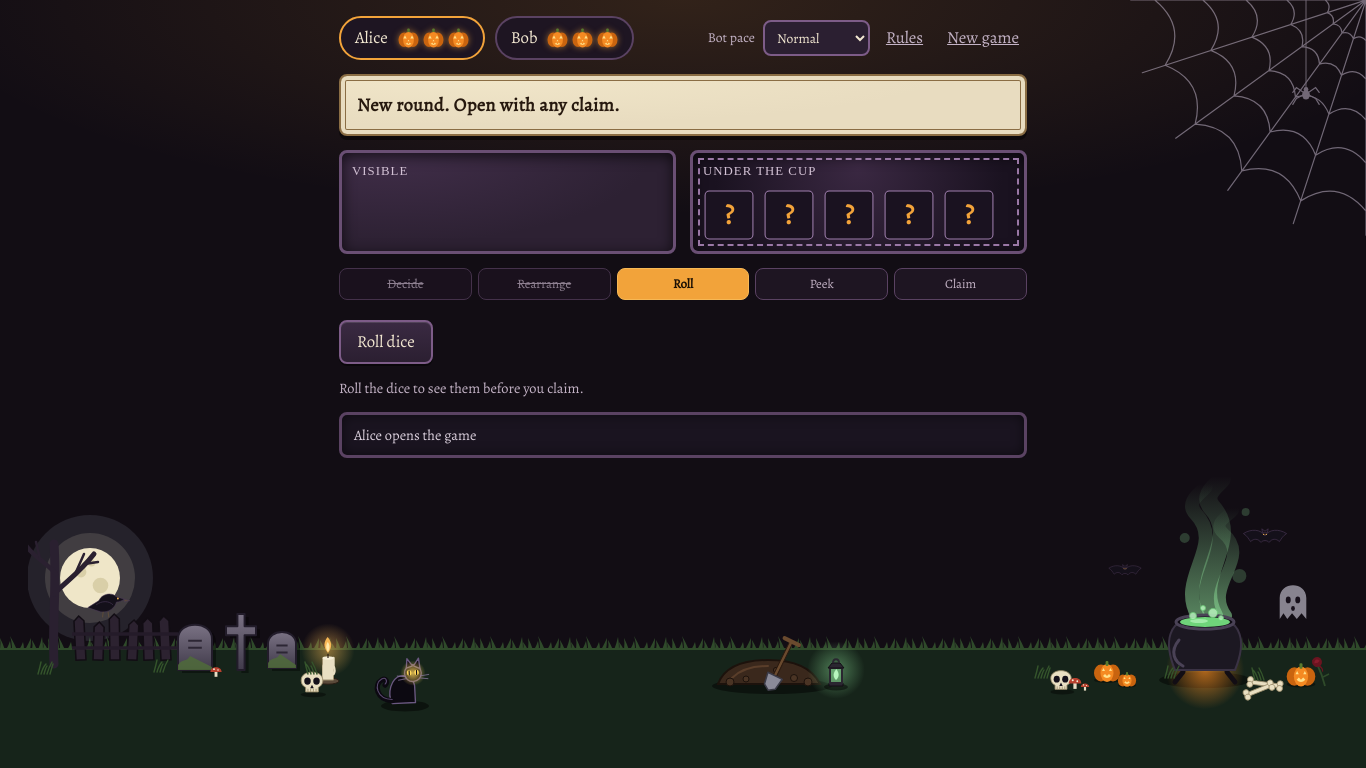
Test case: Table › rolls and shows the dice in one click, then lets you claim and hands the table to Bob
Expected: the number of pictures named "unseen" is 5, [703,189,755,241]; [763,189,815,241]; [823,189,875,241]; [883,189,935,241]; [943,189,995,241]
Click the button "Roll dice": (386,342) [339,320,433,364]
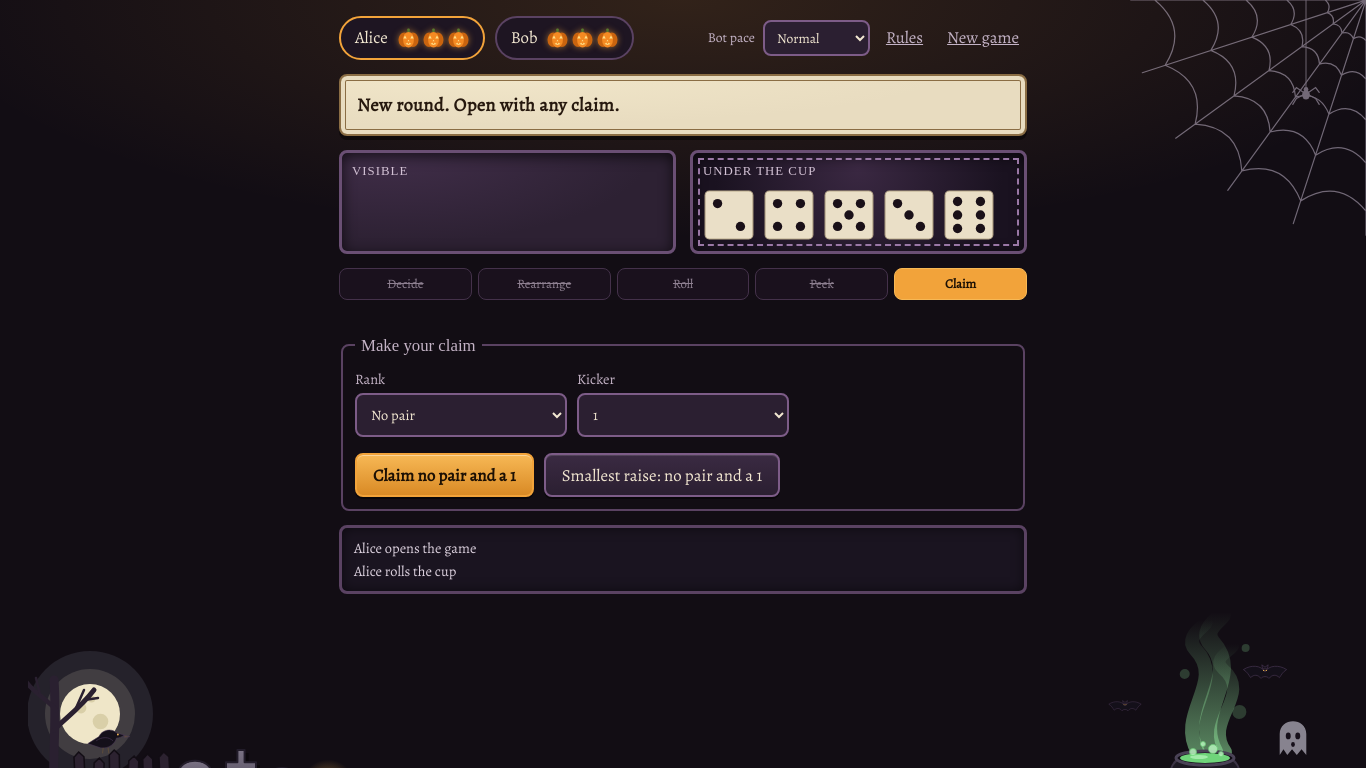
Click the button "Smallest raise: no pair and a 1": (662,475) [544,453,780,497]
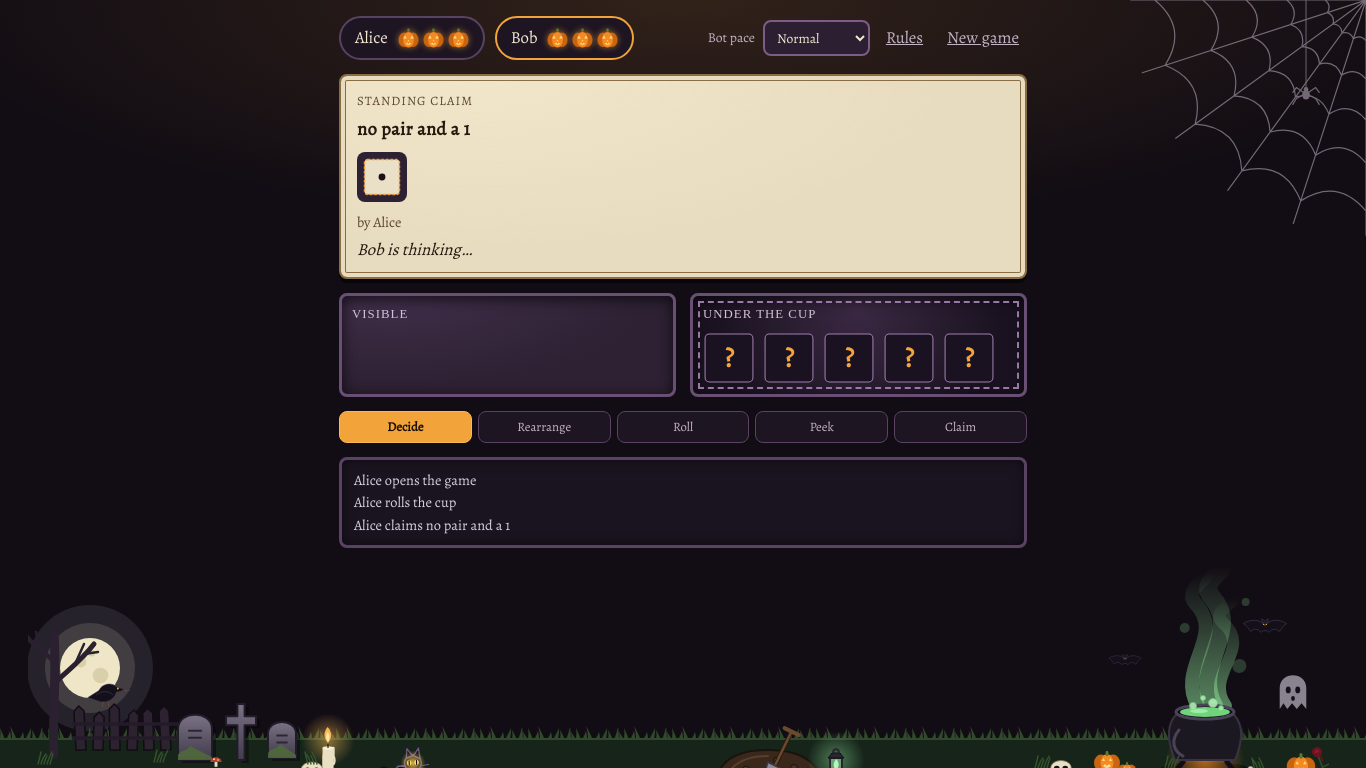
Now the text "Bob is thinking…" is shown, box [357,238,472,261]
